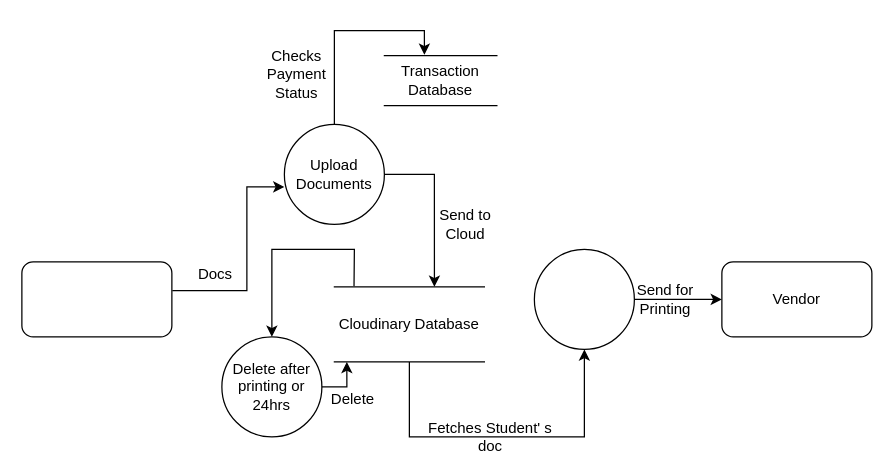
This 894x476 diagram has some shape labels left out. The shapes that lost their labels are listed below. From the top down, each one's box as (x1, y1, x2, y2) in pixels, then its label:
(21, 261, 172, 337): Student
(533, 248, 634, 349): Receives Documents
